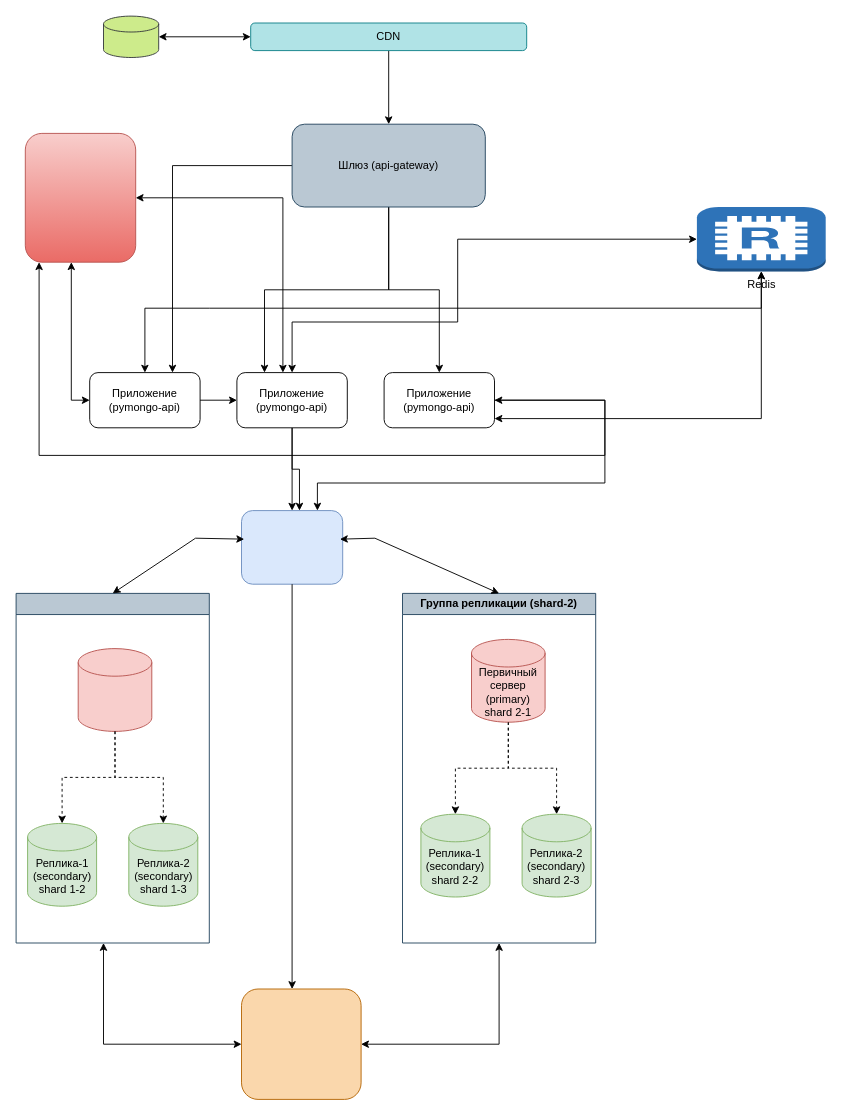
Some shapes in this 842 by 1116 pixel diagram are drawn without their labels. The shapes that lost their labels are listed below. From the top down, each one's box as (x1, y1, x2, y2) in pixels, then its label:
(103, 15, 159, 58): Статичные двнные
(24, 132, 136, 262): Балансировка нагрузки (Service Discovery)
(241, 510, 343, 584): Роутер (mongos-router)
(77, 648, 152, 731): Первичный сервер (primary) shard 1-1
(15, 592, 209, 943): Группа репликации (shard-1)
(241, 988, 361, 1099): Конфигурационный сервер(config-srv)
